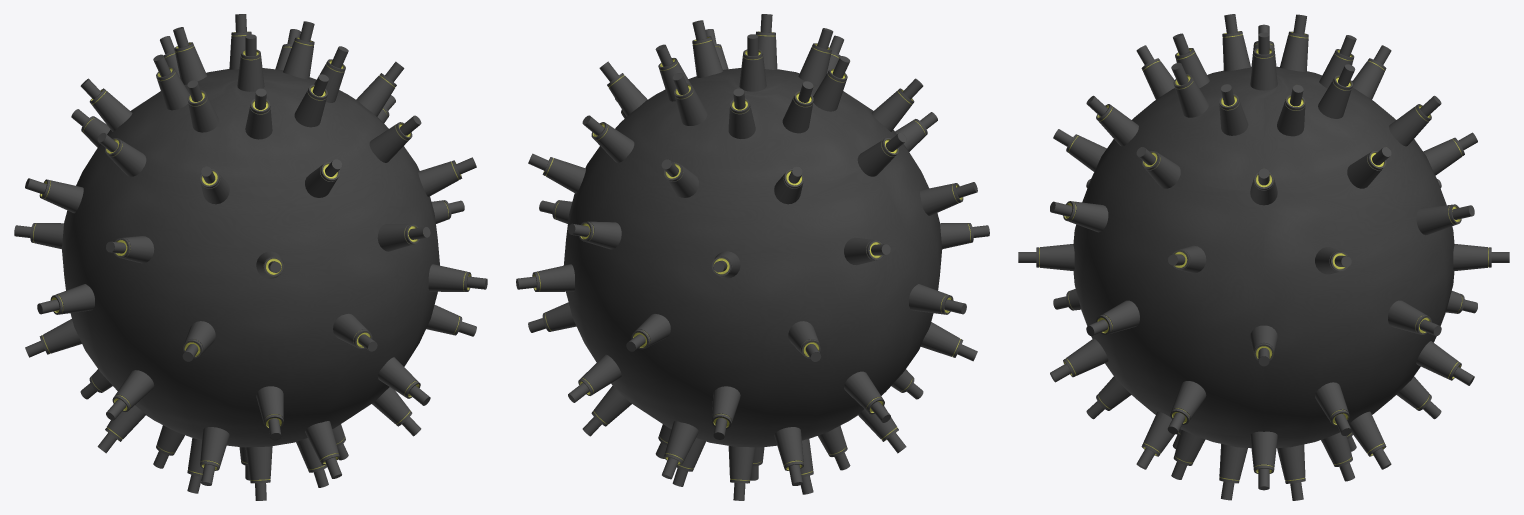
File: SpaceMineLevel1FBX.fbx
3 views of the same model, side by side, from view 1: azimuth 30°, elevation 25°; view 2: azimuth 150°, elevation 25°; view 3: azimuth 270°, elevation 25° (orthographic).
Parts seen in each view (by area): view 1: polySurface120; view 2: polySurface120; view 3: polySurface120.
Part boxes in pixels (x1=…): polySurface120: x1=14, y1=14, x2=487, y2=500; polySurface120: x1=516, y1=14, x2=989, y2=500; polySurface120: x1=1018, y1=14, x2=1509, y2=500.
Size of the model in its own units: 9.84 by 9.84 by 9.84.
Materials: 2 (2 with a texture image).
